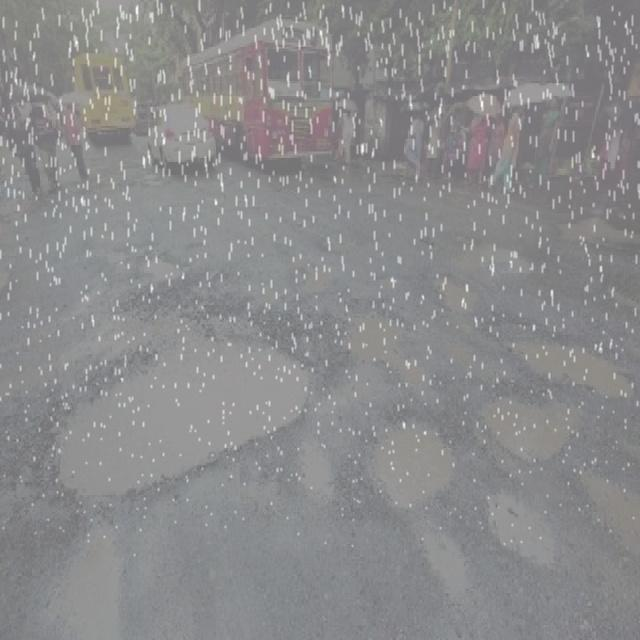Pothole: (39, 304, 313, 500), (42, 515, 131, 640), (505, 329, 640, 404), (364, 404, 456, 510), (339, 297, 432, 401), (476, 386, 578, 465), (485, 483, 558, 569), (578, 471, 640, 552), (411, 514, 466, 604), (427, 264, 485, 320), (288, 254, 336, 299), (135, 250, 184, 289)
